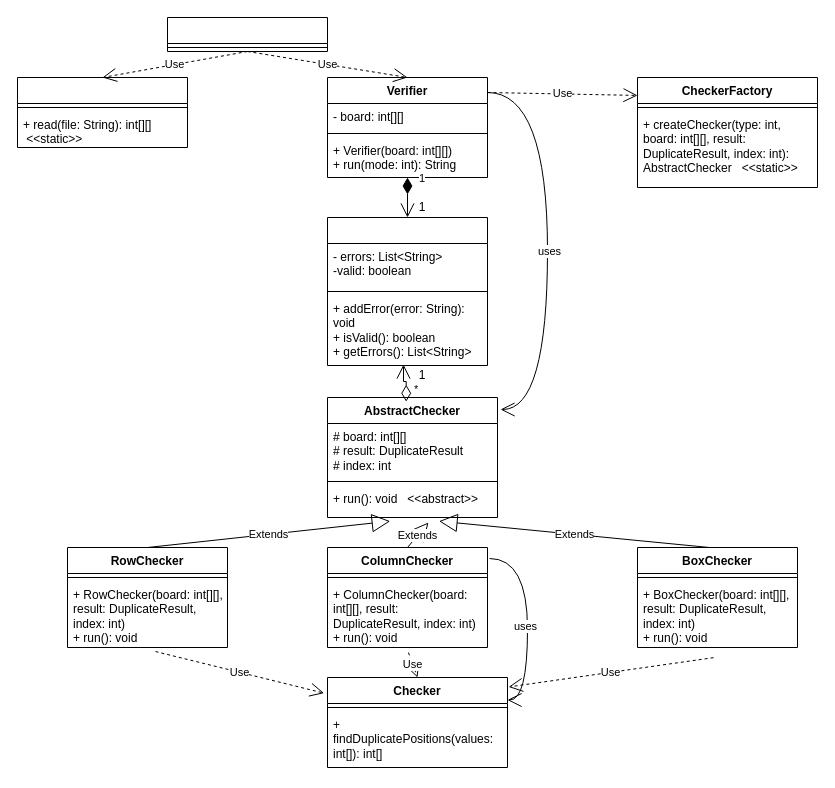
The diagram is 835 pixels wide and 788 high, and some of its shapes have lost their labels. The box of each missing label's shape, as (x1, y1, x2, y2) in pixels:
BoardReader: (16, 76, 188, 148)
DuplicateResult: (326, 216, 488, 366)
Main: (166, 16, 328, 52)
